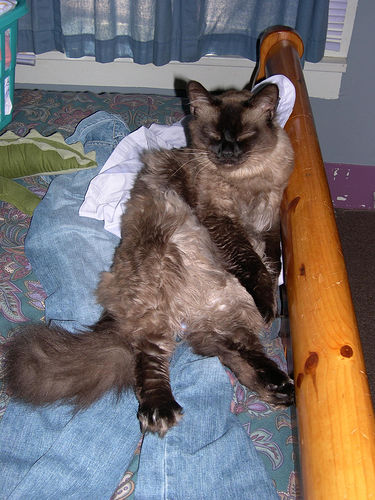cat: (3, 76, 293, 437)
